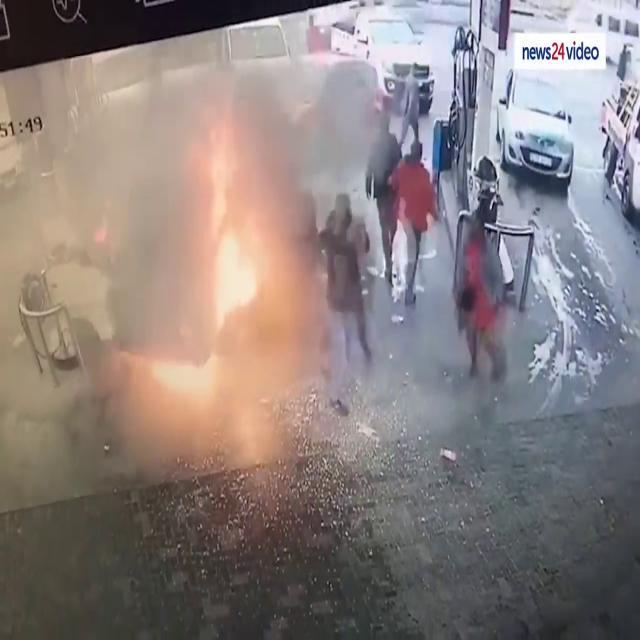Fire: (126, 102, 286, 457), (196, 113, 266, 338)
